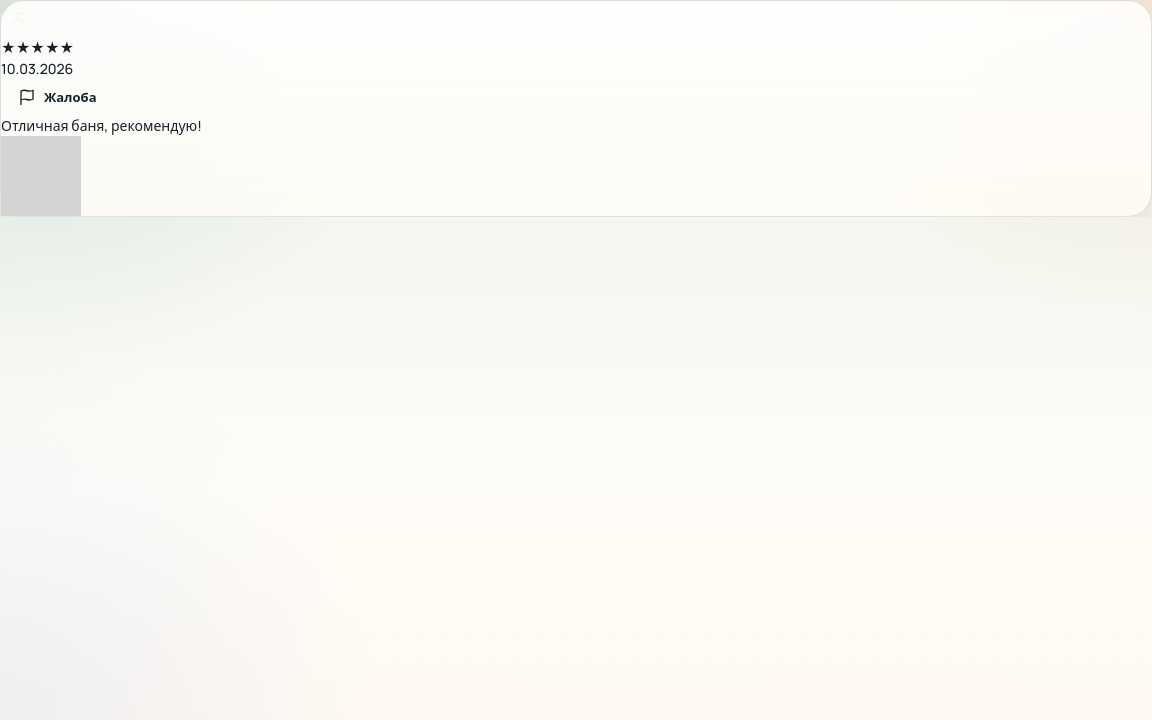
Test case: ReviewCard › opens report modal on report click
Click the button "Жалоба" at x=57, y=97, box [1, 79, 114, 115]
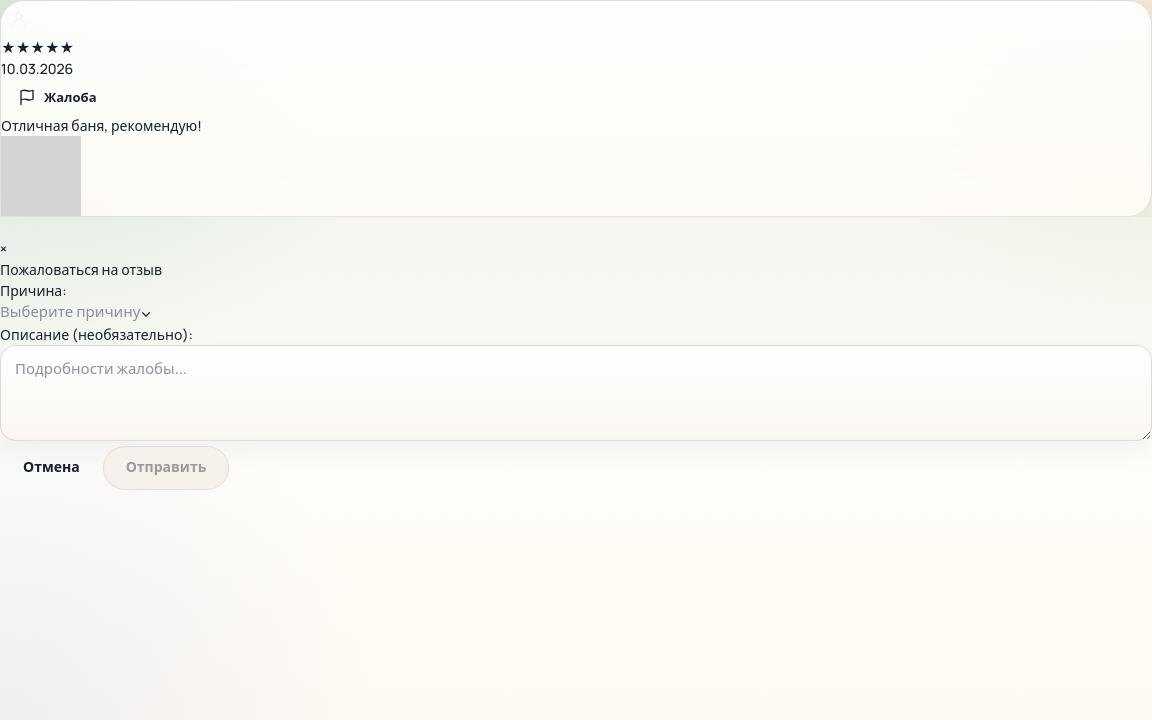
Result: the text "Пожаловаться на отзыв" is shown at [0, 260, 162, 279]
Result: the text "Причина:" is shown at [0, 281, 67, 300]
